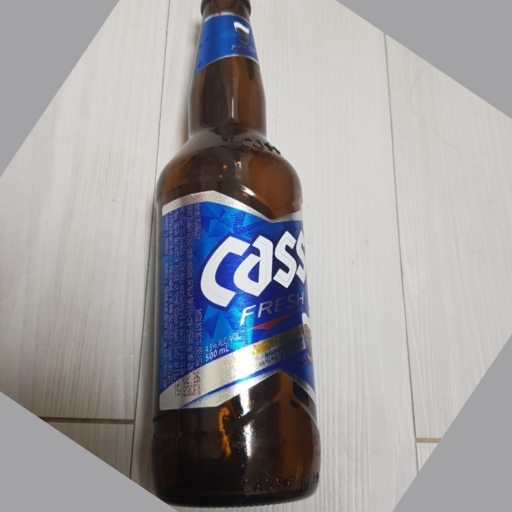Glass_1: (150, 2, 323, 508)
